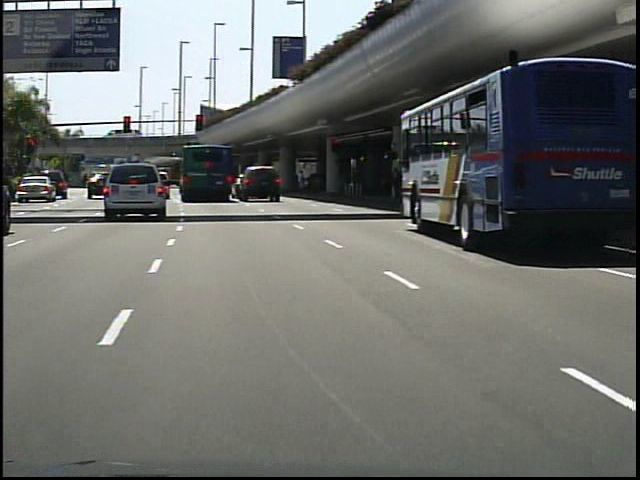person: (295, 161, 315, 198)
